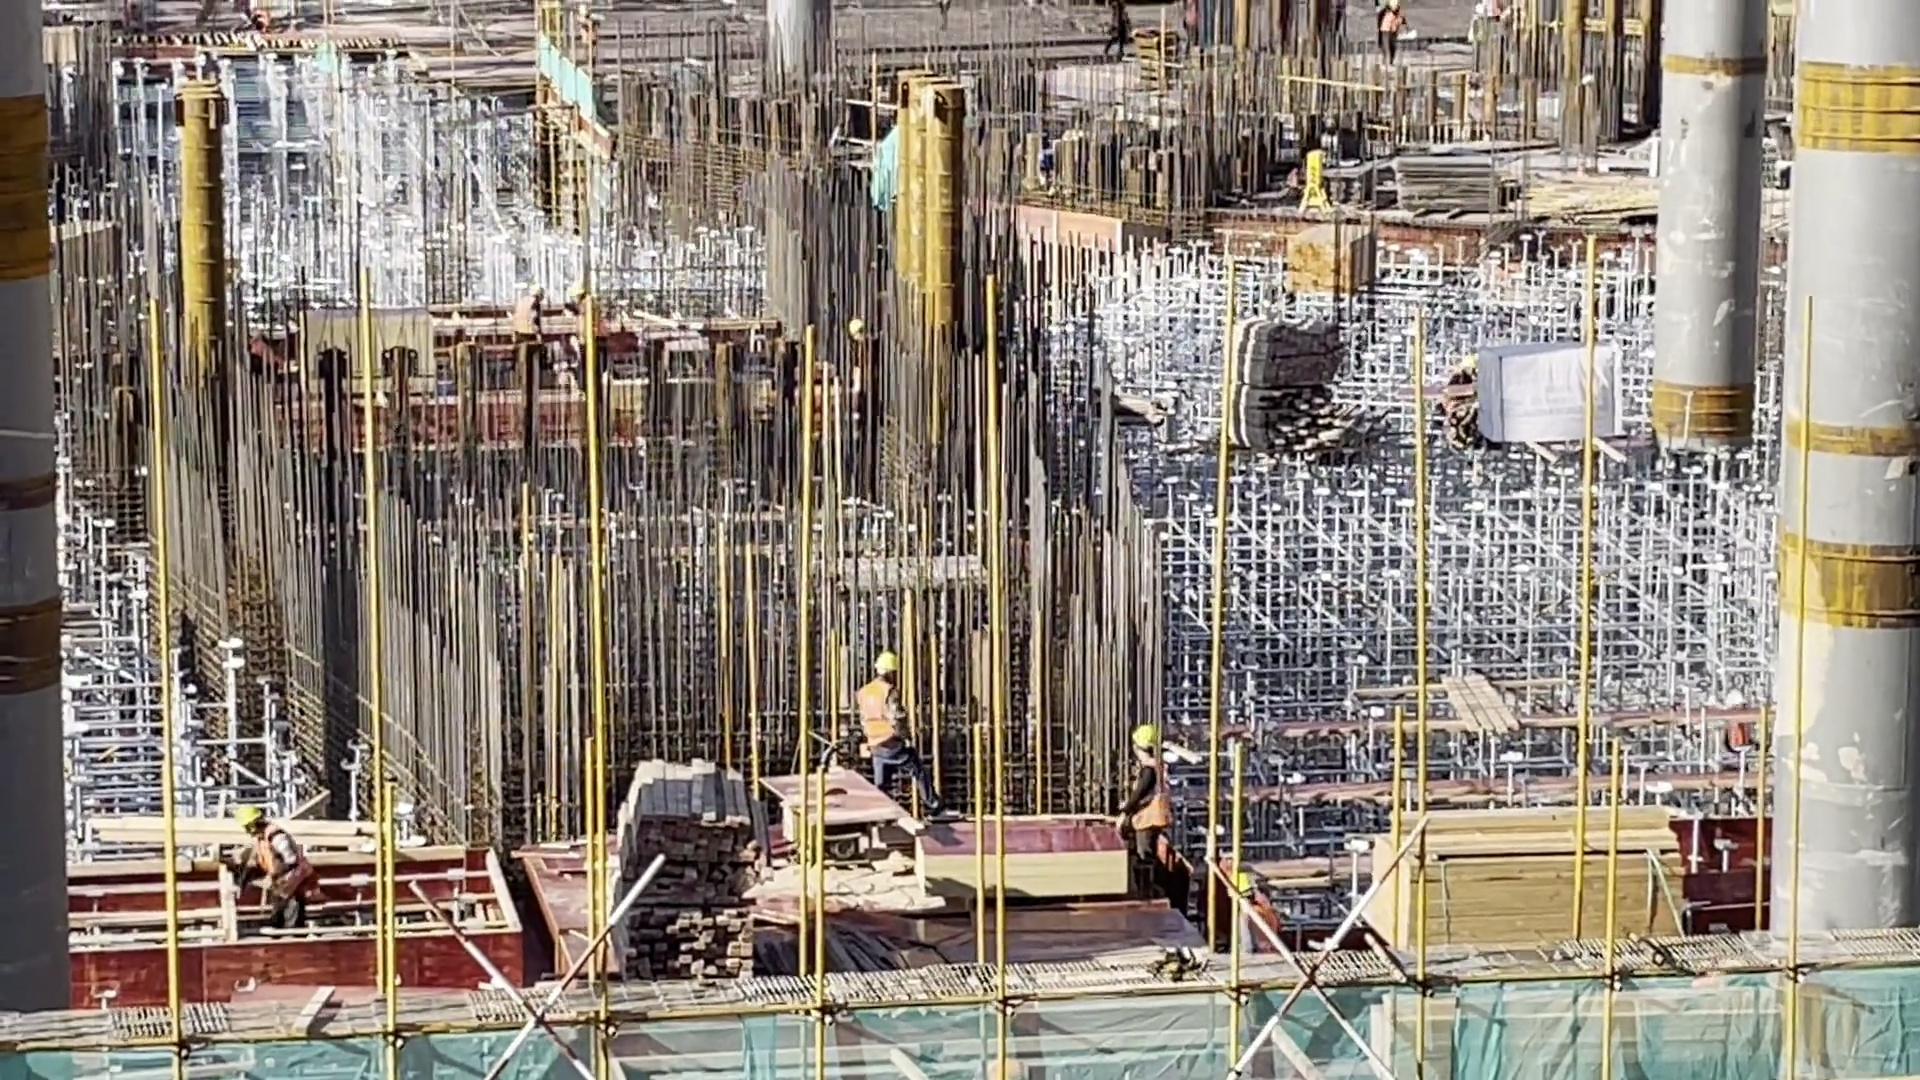helmet: (235, 802, 261, 828), (1130, 723, 1158, 748), (875, 652, 903, 673), (528, 285, 544, 301), (849, 319, 863, 332)
person: (850, 646, 960, 827), (219, 799, 325, 932), (1114, 719, 1177, 904), (1373, 2, 1412, 67), (1100, 1, 1134, 63), (516, 283, 546, 343), (1466, 3, 1490, 75), (564, 278, 585, 352), (938, 1, 954, 28), (850, 318, 863, 342)
vest: (256, 829, 315, 900), (1132, 760, 1172, 831), (857, 679, 899, 746), (518, 299, 538, 338)
